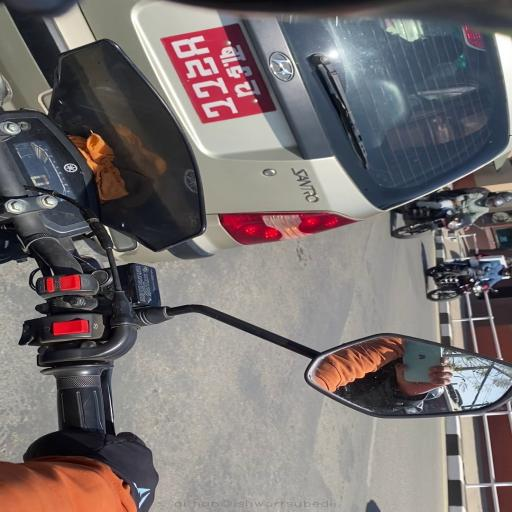license_plate: (155, 19, 281, 127)
